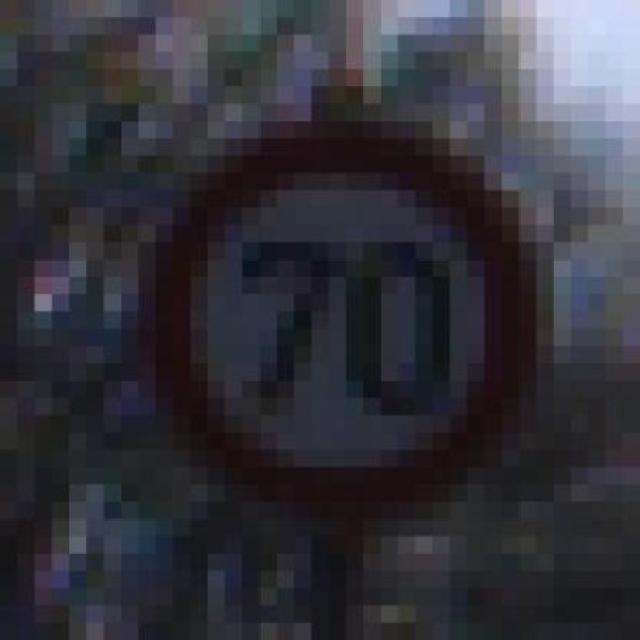forb_speed_over_70: (166, 132, 529, 503)
